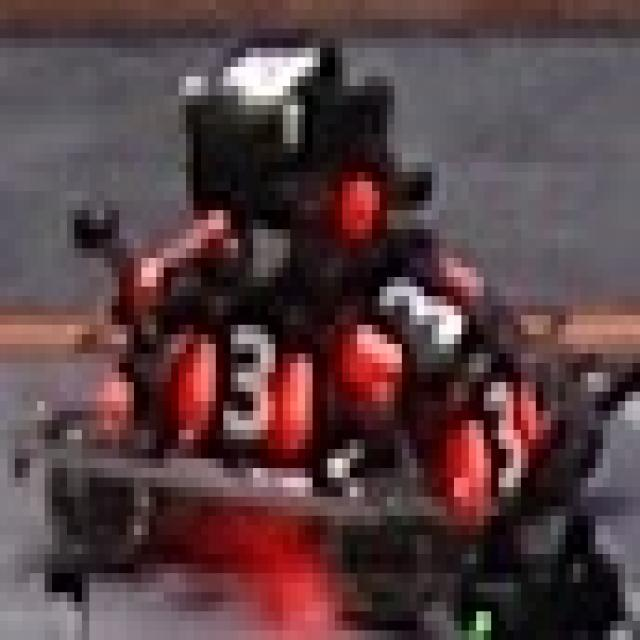R3: (156, 315, 328, 459), (357, 248, 476, 363), (461, 373, 536, 506)
